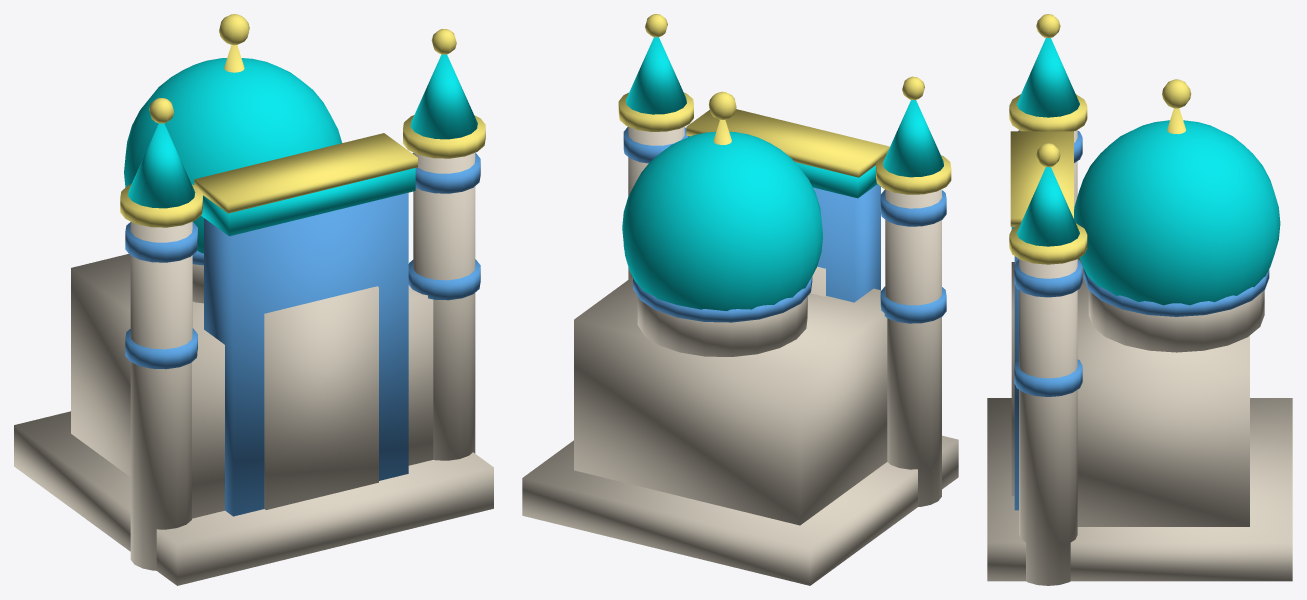
File: castle_samarkand.fbx
The picture shows the model from 3 angles, left to right: view 1: azimuth 30°, elevation 25°; view 2: azimuth 150°, elevation 25°; view 3: azimuth 270°, elevation 25°; orthographic projection. The views are drawn at different scales.
Parts seen in each view (by area): view 1: Base; view 2: Base; view 3: Base.
Boxes of the visible parts, x1,y1,x2,y2 form: Base: [14, 14, 493, 585]; Base: [522, 14, 958, 585]; Base: [987, 14, 1292, 585].
Bounding box in the file's own units: 3.14 × 3.88 × 2.5.
